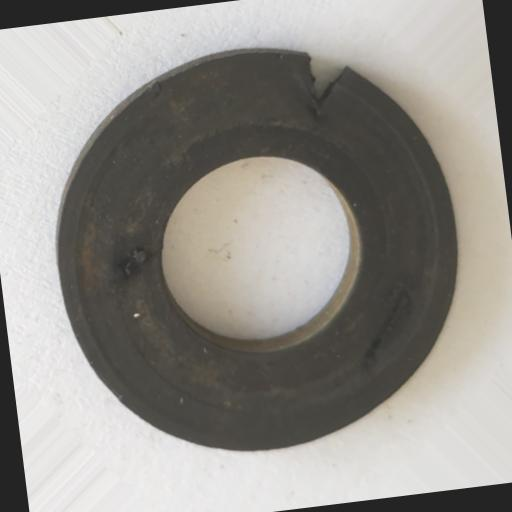defect: (302, 48, 352, 111)
